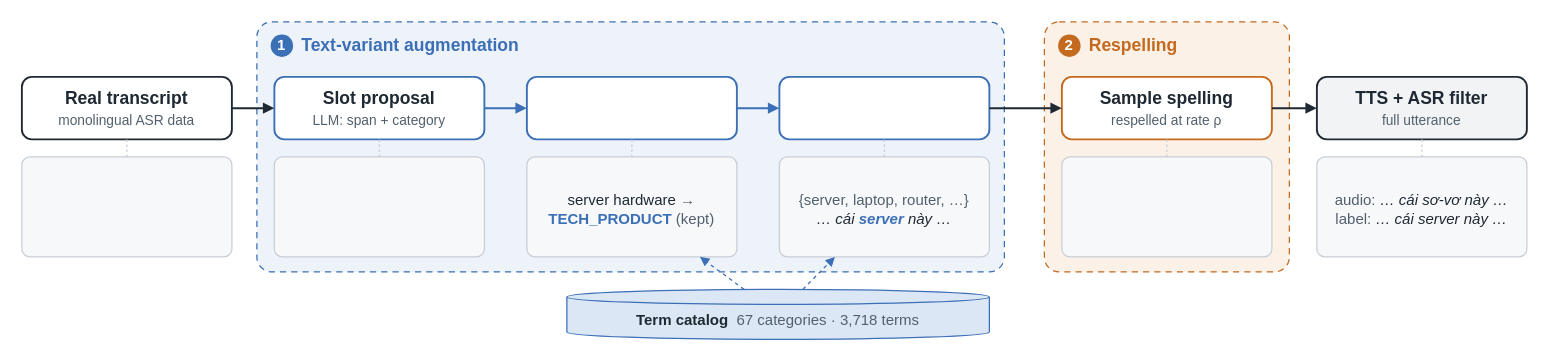
This 1550x361 diagram has some shape labels left out. The shapes that lost their labels are listed below. From the top down, each one's centre as x and y in pixels, then its label:
the point at 631,107: Catalog grounding embedding, cos ≥ τ
the point at 884,107: Variant filling any value of the category
the point at 126,206: ờ khởi động lại cái máy chủ này giúp mình nhé
the point at 378,206: span: “máy chủ” category: server hardware
the point at 1166,206: server → sơ-vơ … cái sơ-vơ này …
